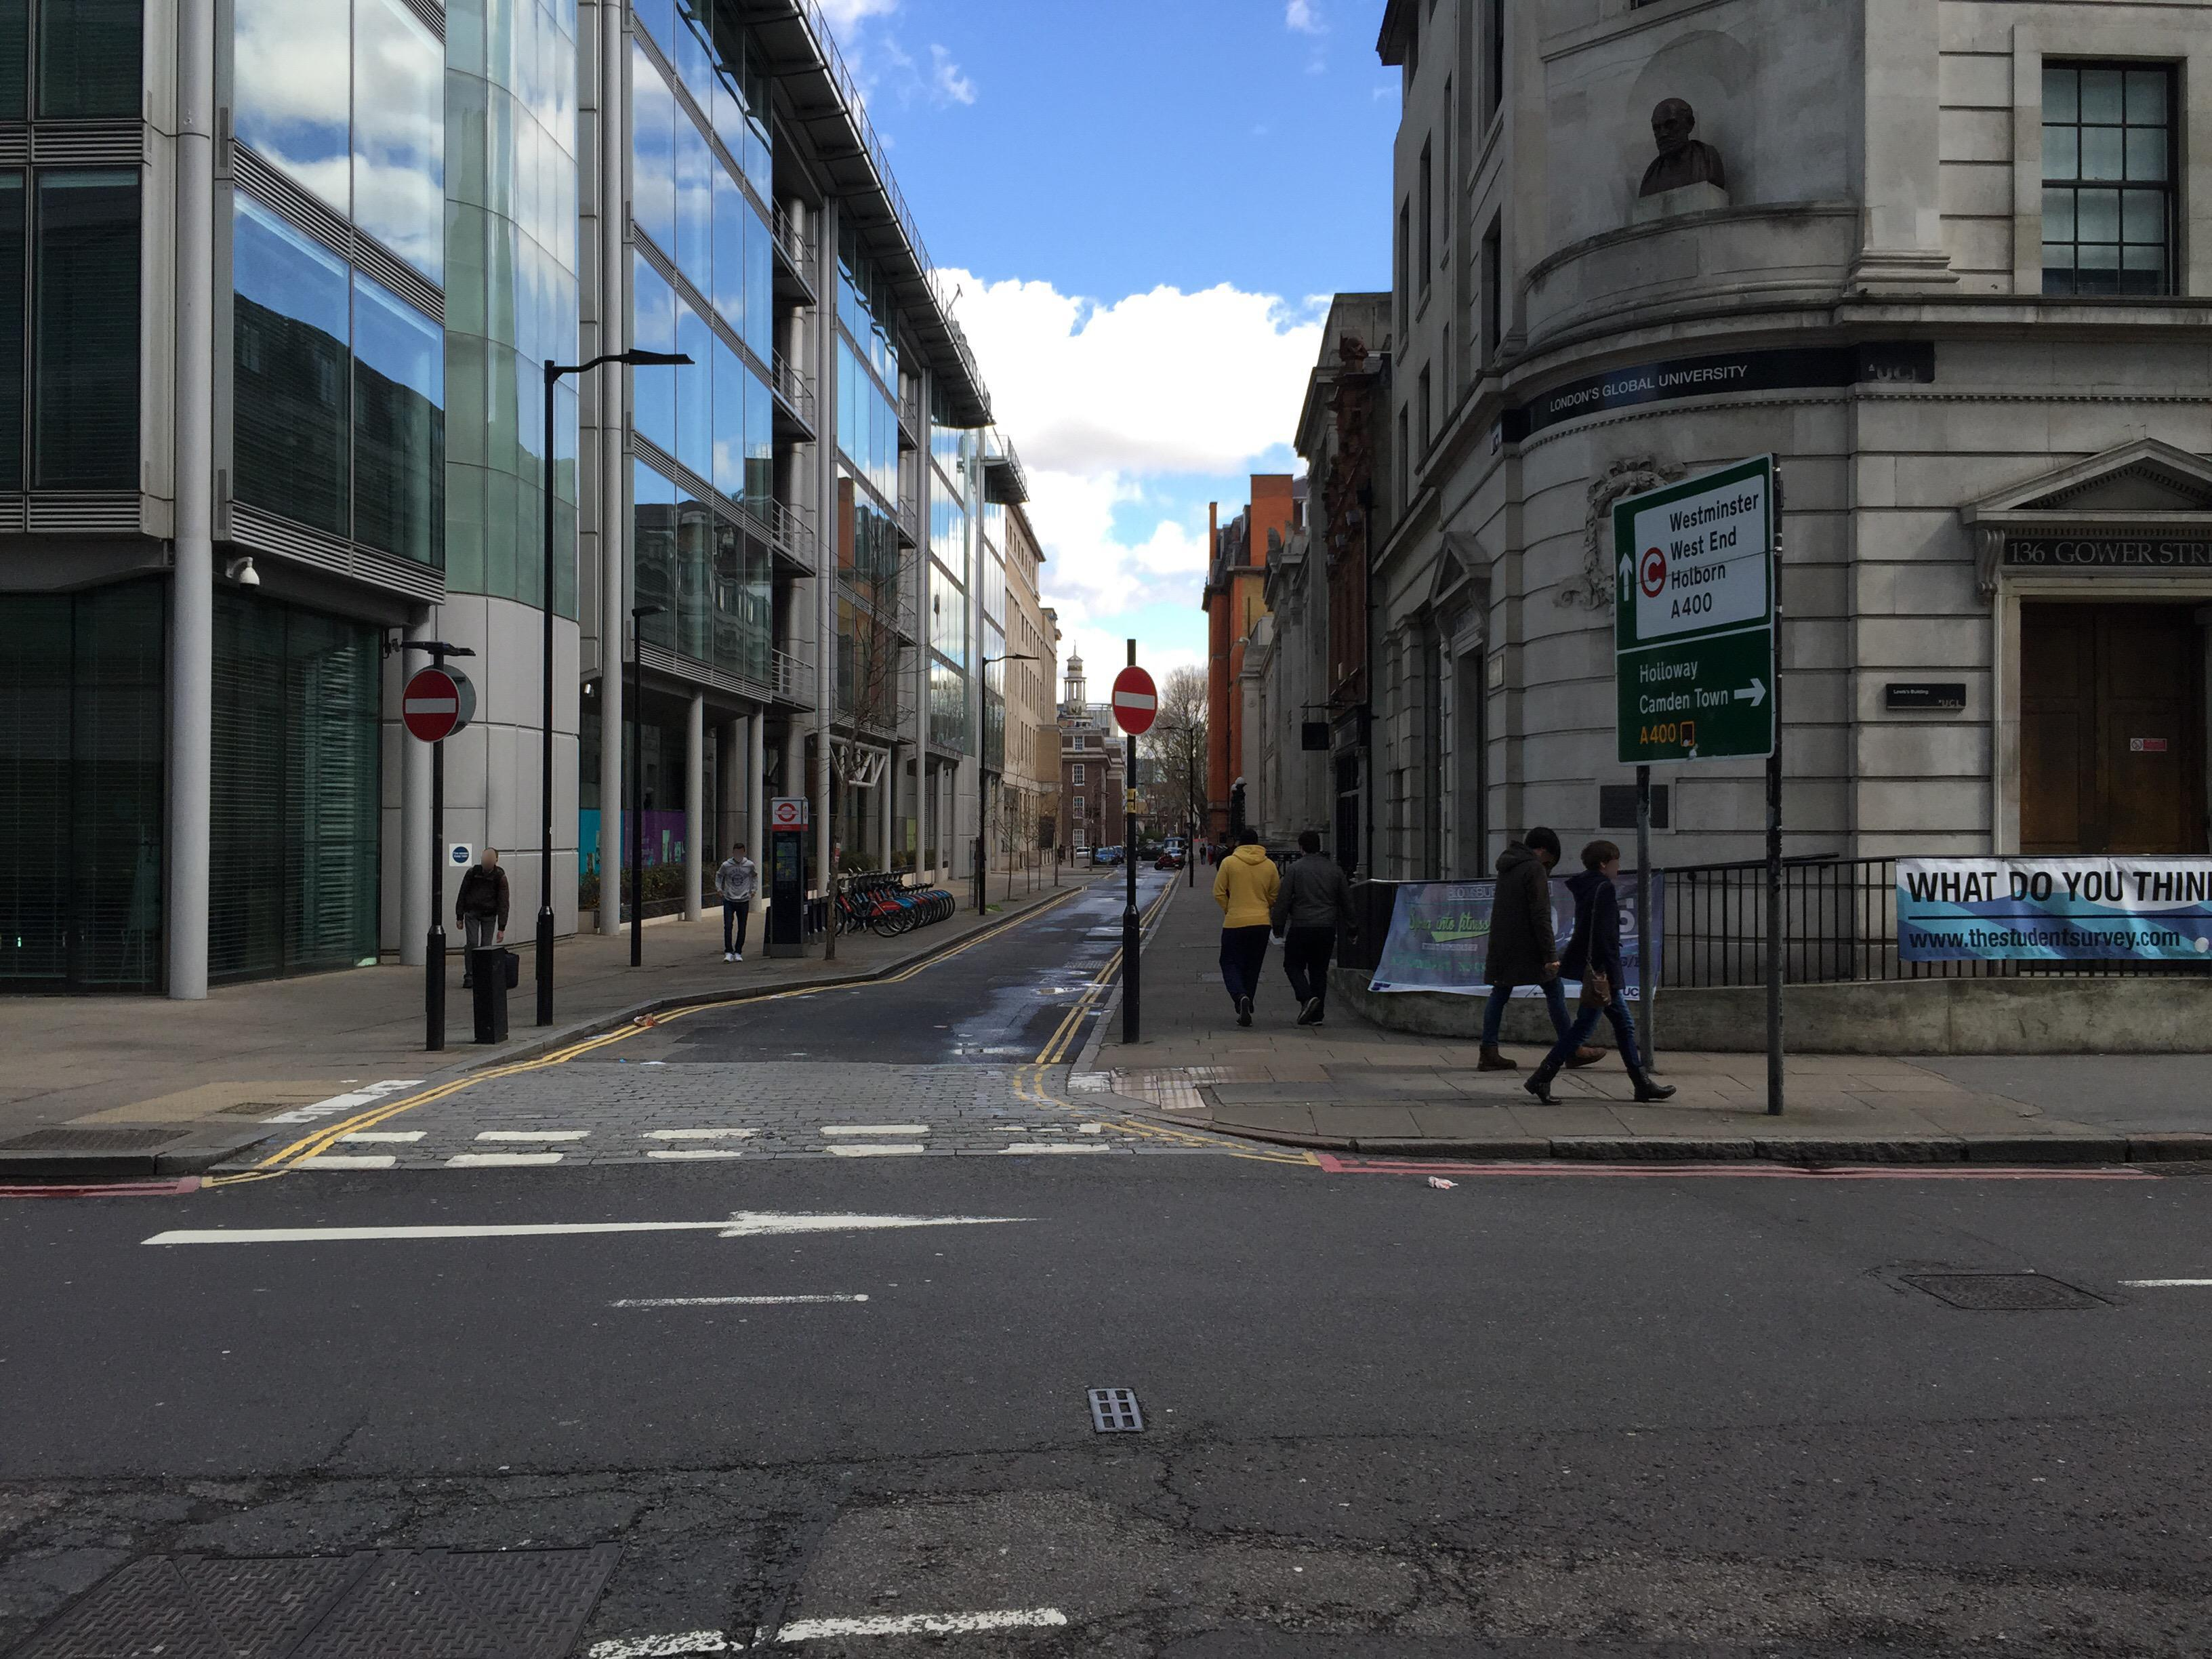vinyl banner: (1352, 845, 1665, 1032), (1892, 845, 2212, 976)
